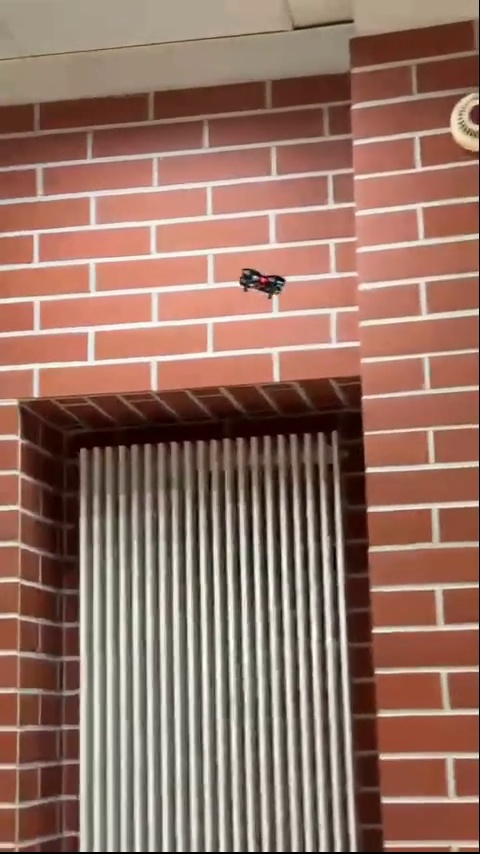drone: (239, 264, 289, 300)
